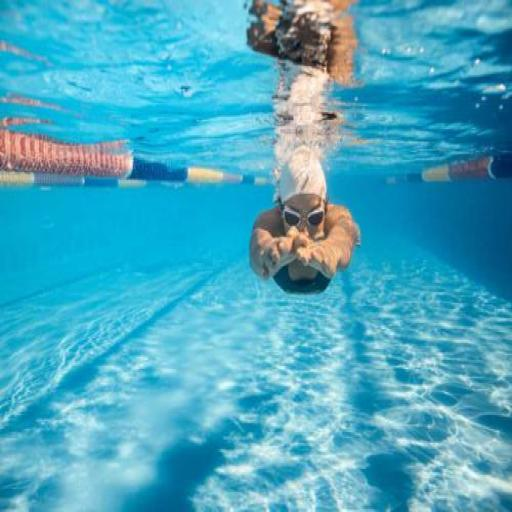swimming: (242, 0, 364, 294)
